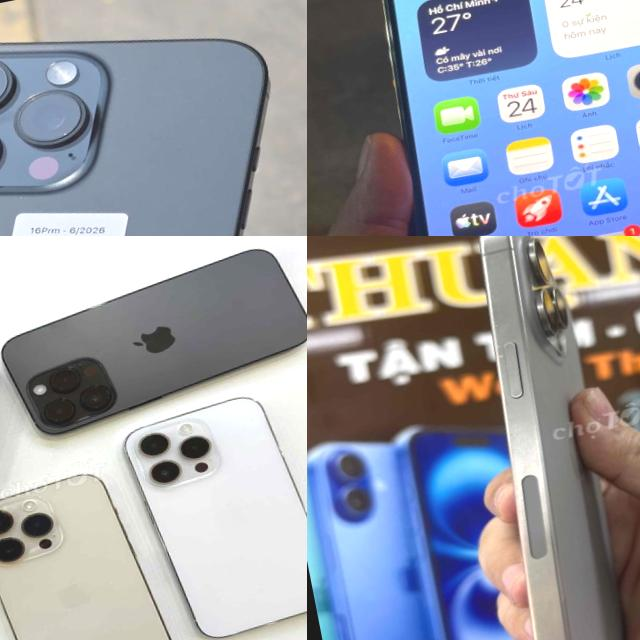gen_14: (352, 0, 640, 236), (121, 375, 307, 640), (0, 443, 181, 640)
gen_15: (435, 236, 640, 640)
gen_16: (0, 39, 269, 236)
